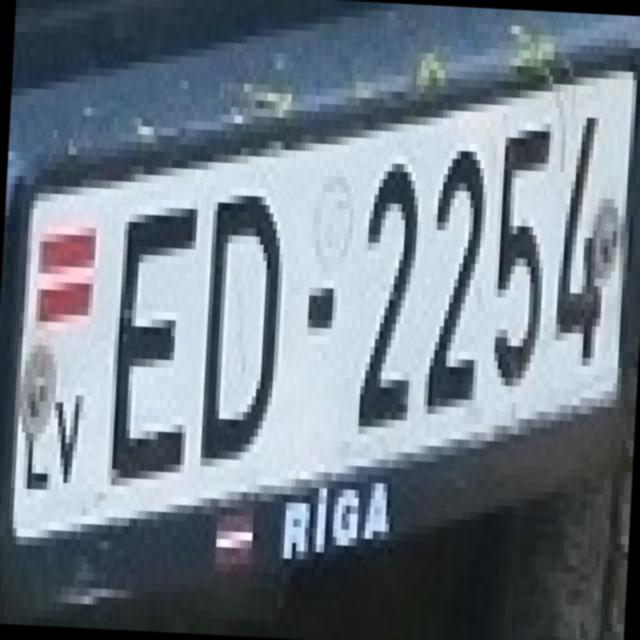2: (346, 138, 426, 429), (416, 125, 494, 408)
4: (542, 92, 616, 367)
5: (478, 104, 556, 380)
D: (185, 170, 292, 470)
E: (95, 173, 204, 481)
